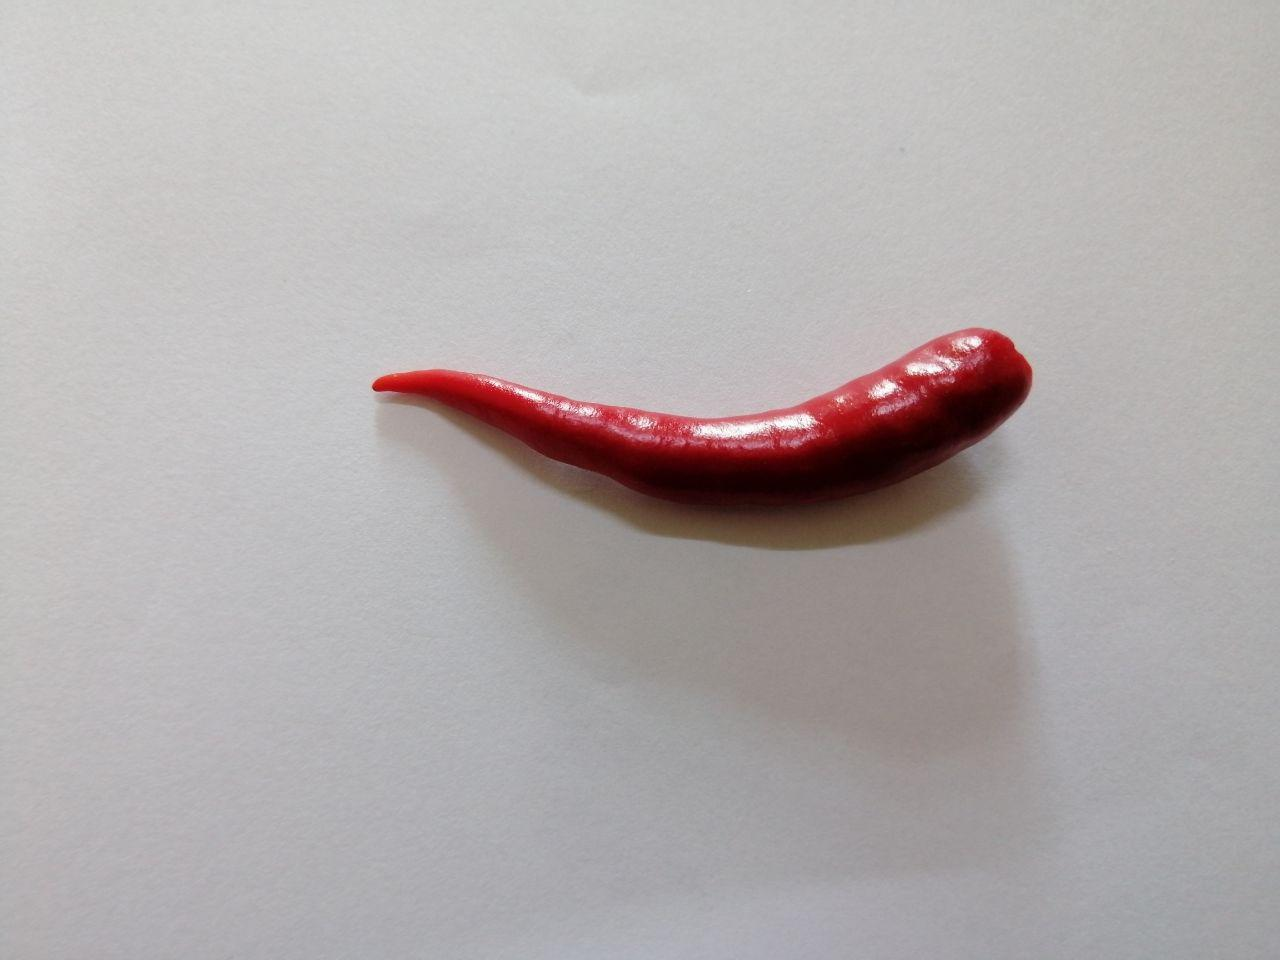lada merah: (346, 293, 1063, 539)
